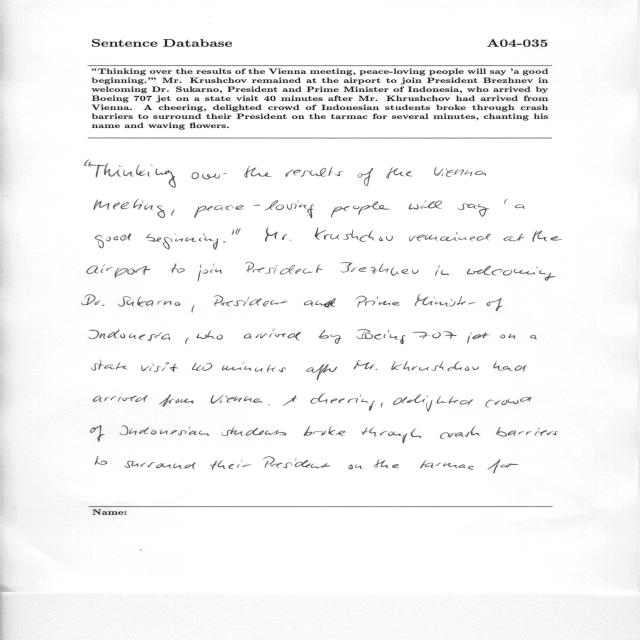word: (194, 200, 314, 218), (393, 394, 473, 412), (467, 265, 556, 281), (94, 199, 165, 218), (123, 164, 176, 188), (146, 233, 218, 250), (315, 227, 393, 242), (310, 393, 375, 411), (341, 262, 419, 276), (331, 202, 391, 218), (362, 428, 422, 444), (246, 262, 323, 274), (119, 426, 209, 436), (87, 264, 151, 278), (89, 330, 170, 341), (391, 361, 479, 371), (214, 296, 288, 307), (264, 457, 331, 469), (415, 294, 476, 307), (409, 232, 490, 241), (357, 329, 405, 344), (244, 329, 301, 341), (118, 296, 180, 307), (85, 160, 122, 178), (222, 362, 286, 372), (496, 427, 558, 437), (222, 427, 287, 436), (286, 167, 342, 177), (125, 461, 195, 469), (96, 234, 132, 249), (434, 167, 486, 177), (440, 426, 480, 439), (486, 397, 532, 408), (307, 364, 338, 380), (420, 461, 474, 470), (356, 296, 400, 307), (211, 395, 262, 404), (159, 394, 194, 407), (197, 264, 222, 282), (487, 460, 519, 474), (93, 394, 148, 402), (304, 426, 346, 436), (210, 460, 252, 470), (457, 204, 489, 217), (265, 227, 292, 242), (92, 360, 127, 371), (141, 363, 178, 373), (532, 230, 562, 242), (413, 331, 457, 339), (244, 166, 272, 178), (494, 362, 527, 372), (319, 330, 342, 344), (386, 168, 413, 179), (409, 201, 442, 210), (304, 298, 336, 307), (358, 168, 373, 186), (82, 294, 104, 306), (468, 332, 490, 344), (197, 330, 223, 340), (192, 172, 227, 179), (354, 360, 378, 370), (374, 460, 399, 469), (91, 426, 105, 442), (486, 298, 503, 311), (504, 234, 525, 242), (192, 363, 212, 371), (284, 395, 298, 406), (435, 266, 449, 276), (172, 264, 185, 273), (95, 456, 107, 465), (501, 333, 516, 339), (349, 464, 362, 469), (515, 204, 525, 209), (236, 228, 241, 235), (171, 209, 175, 216), (530, 335, 537, 339), (192, 305, 195, 313), (185, 338, 189, 344), (504, 199, 508, 204), (231, 230, 234, 235), (381, 403, 383, 408), (223, 241, 226, 243), (268, 404, 270, 406)
